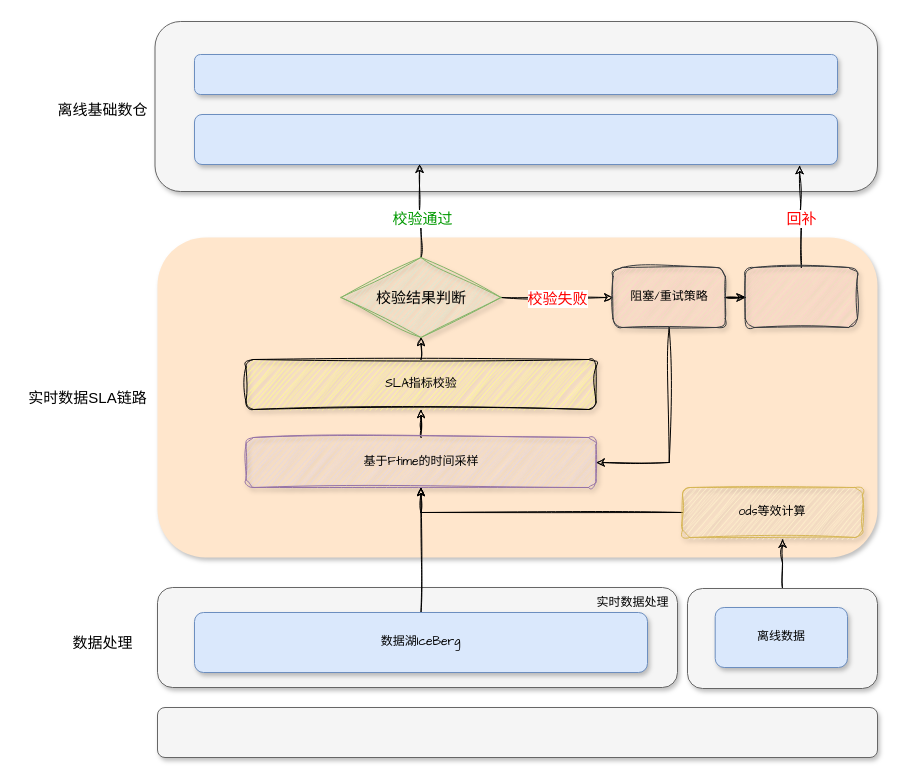
The diagram is 901 pixels wide and 782 high, and some of its shapes have lost their labels. The centre of each missing label's shape, as x and y in pixels:
"ATTA" goes at pixel 518 733.
"DWD" goes at pixel 517 141.
"DWS" goes at pixel 517 76.
"数据修复策略" goes at pixel 802 298.
